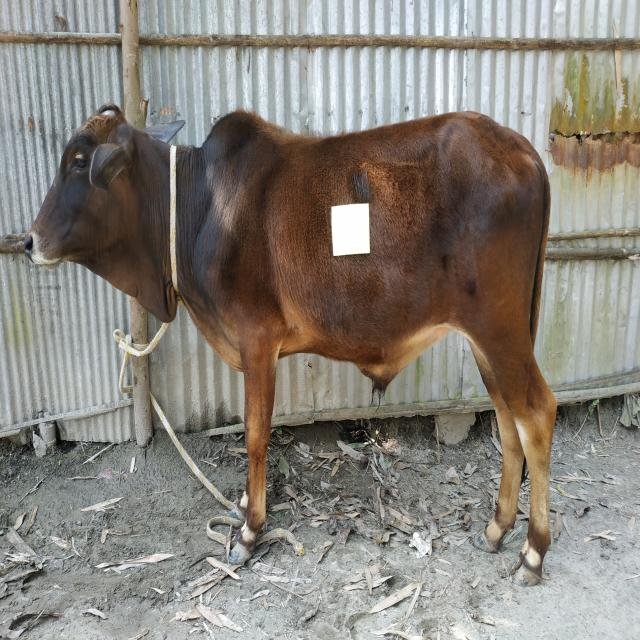badan_sapi: (235, 124, 534, 370)
sapi: (23, 89, 570, 593)
